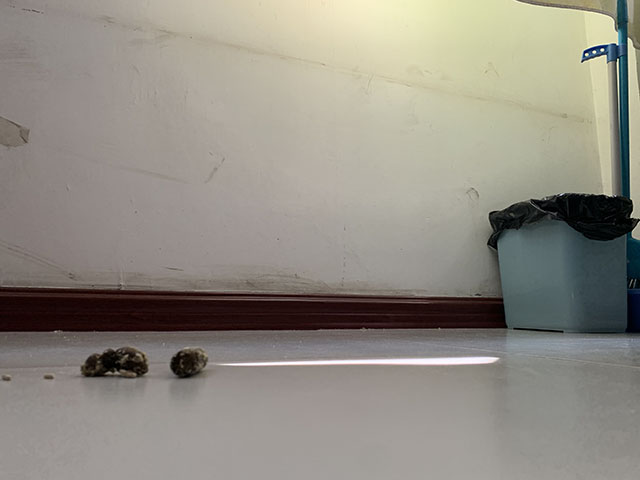feces: (79, 346, 150, 379), (169, 347, 209, 379)
trashcan: (486, 192, 640, 334)
